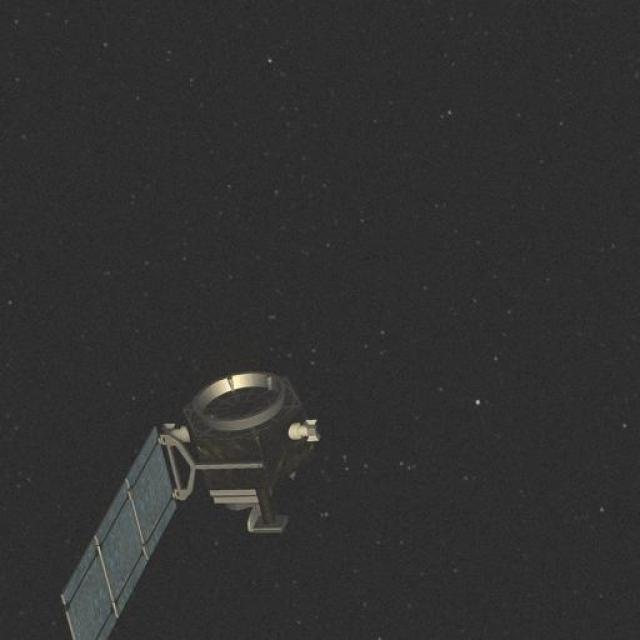earth_observation_sat_1: (105, 348, 338, 570)
